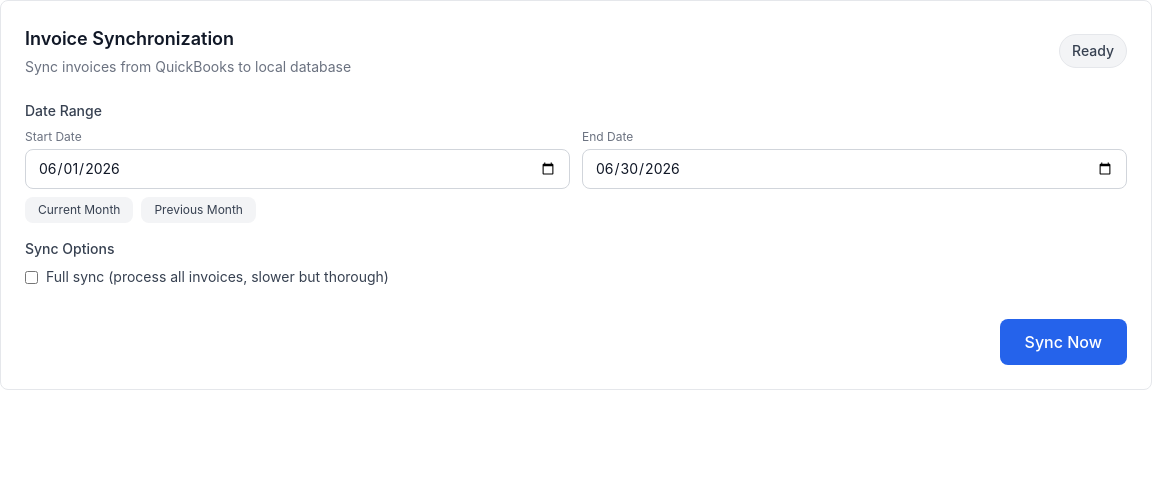
Test: QuickBooksSyncPanel - Error Handling › should display error when sync fails
Click the button "Sync Now": (1063, 342) [1000,319,1127,365]
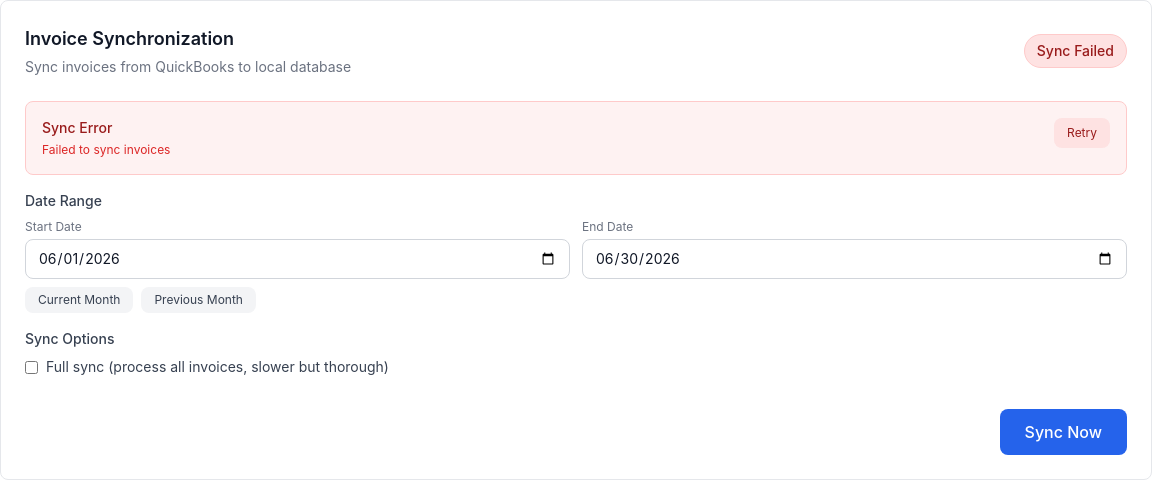
Result: the text "Sync Failed" is shown at [1024,34,1127,68]
Result: the text "Sync Error" is shown at [42,119,112,136]
Result: the text "Failed to sync invoices" is shown at [42,142,170,158]
